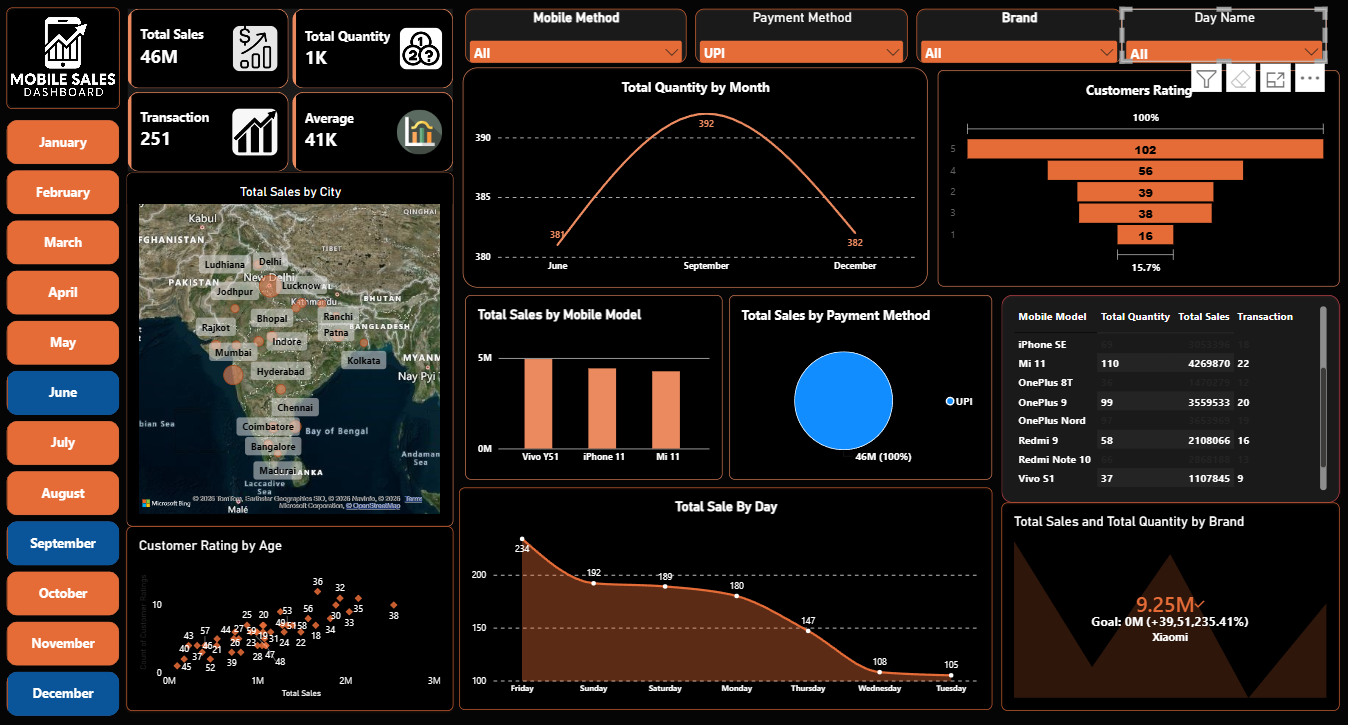

This screenshot's page, from the dashboard's own definition file:
{"tool":"powerbi","page":{"name":"Page 1","canvas":[1920,1080],"ordinal":0},"visuals":[{"type":"image","box":[10.9,10.9,153.8,137.5],"z":0},{"type":"advancedSlicerVisual","fields":{"Values":["Sheet1.Date.Variation.Date Hierarchy.Month"]},"box":[10.9,162.9,153.3,815],"z":1000},{"type":"cardVisual","fields":{"Data":["Sheet1.Total Sales","Sheet1.Total Quantity","Sheet1.Transaction","Sheet1.Average"]},"box":[174.3,11.4,442.9,222.9],"z":2000},{"type":"map","fields":{"Category":["Sheet1.City"],"Size":["Sheet1.Total Sales"]},"box":[173.3,233.3,443.3,480],"z":3000},{"type":"lineChart","fields":{"Category":["Sheet1.Date.Variation.Date Hierarchy.Month","Sheet1.Date.Variation.Date Hierarchy.Day"],"Y":["Sheet1.Total Quantity"]},"box":[628.3,91.7,630,298.6],"z":4000},{"type":"clusteredColumnChart","fields":{"Category":["Sheet1.Mobile Model"],"Y":["Sheet1.Total Sales"]},"box":[631.7,400,348.6,250],"z":5000},{"type":"pieChart","fields":{"Category":["Sheet1.Payment Method"],"Y":["Sheet1.Total Sales"]},"box":[990,400,357.1,250],"z":6000},{"type":"funnel","title":"Customers Rating","fields":{"Category":["Sheet1.Customer Ratings"],"Y":["CountNonNull(Sheet1.Customer Ratings)"]},"box":[1273.3,95,545,293.3],"z":7000},{"type":"areaChart","title":"Total Sale By Day","fields":{"Category":["Sheet1.Day Name"],"Y":["Sheet1.Total Quantity"]},"box":[623.3,661.7,723.3,301.7],"z":8000},{"type":"tableEx","fields":{"Values":["Sheet1.Mobile Model","Sheet1.Total Quantity","Sheet1.Total Sales","Sheet1.Transaction"]},"box":[1360,400,458.3,281.7],"z":9000},{"type":"slicer","title":"Mobile Method","fields":{"Values":["Sheet1.Mobile Model"]},"box":[631.7,11.7,300,73.3],"z":10000},{"type":"slicer","title":"Payment Method","fields":{"Values":["Sheet1.Payment Method"]},"box":[943.3,11.7,288.3,73.3],"z":11000},{"type":"slicer","title":"Brand","fields":{"Values":["Sheet1.Brand"]},"box":[1243.3,11.7,278.3,73.3],"z":12000},{"type":"slicer","title":"Day Name","fields":{"Values":["Sheet1.City"]},"box":[1521.7,11.7,278.3,73.3],"z":13000},{"type":"kpi","fields":{"Goal":["Sheet1.Total Quantity"],"Indicator":["Sheet1.Total Sales"],"TrendLine":["Sheet1.Brand"]},"box":[1360,682,458,282],"z":13001},{"type":"scatterChart","title":"Customer Rating by Age ","fields":{"Category":["Sheet1.Customer Age"],"X":["Sheet1.Total Sales"],"Y":["CountNonNull(Sheet1.Customer Ratings)"]},"box":[173,713,443,250],"z":13002}]}

Visuals, with their boxes on the page's 1920x1080 design canvas (x1, y1, x2, y2). These are canvas units, not pixel positions in the 1348x725 screenshot, which may show the page scaled, cropped or inside an application window:
image: [11, 11, 165, 148]
advancedSlicerVisual - Sheet1.Date.Variation.Date Hierarchy.Month: [11, 163, 164, 978]
cardVisual - Sheet1.Total Sales x Sheet1.Total Quantity: [174, 11, 617, 234]
map - Sheet1.City x Sheet1.Total Sales: [173, 233, 617, 713]
lineChart - Sheet1.Date.Variation.Date Hierarchy.Month x Sheet1.Date.Variation.Date Hierarchy.Day: [628, 92, 1258, 390]
clusteredColumnChart - Sheet1.Mobile Model x Sheet1.Total Sales: [632, 400, 980, 650]
pieChart - Sheet1.Payment Method x Sheet1.Total Sales: [990, 400, 1347, 650]
"Customers Rating" funnel: [1273, 95, 1818, 388]
"Total Sale By Day" areaChart: [623, 662, 1347, 963]
tableEx - Sheet1.Mobile Model x Sheet1.Total Quantity: [1360, 400, 1818, 682]
"Mobile Method" slicer: [632, 12, 932, 85]
"Payment Method" slicer: [943, 12, 1232, 85]
"Brand" slicer: [1243, 12, 1522, 85]
"Day Name" slicer: [1522, 12, 1800, 85]
kpi - Sheet1.Total Quantity x Sheet1.Total Sales: [1360, 682, 1818, 964]
"Customer Rating by Age " scatterChart: [173, 713, 616, 963]
